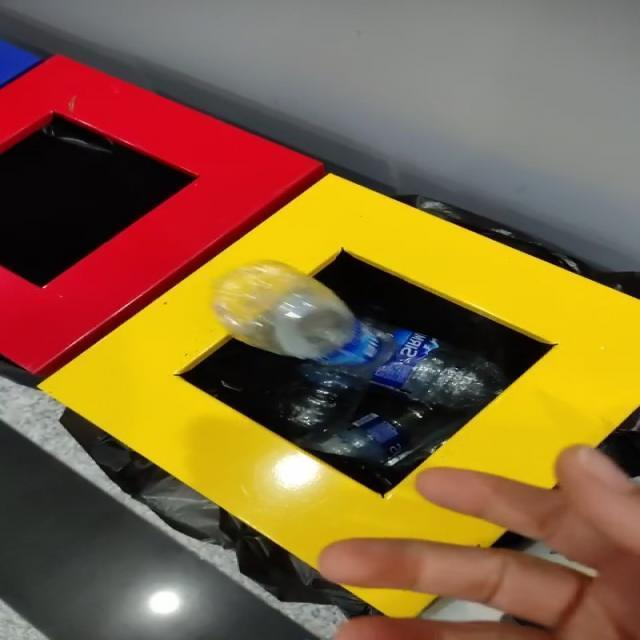Plastic: (212, 261, 392, 377), (212, 261, 392, 376)
